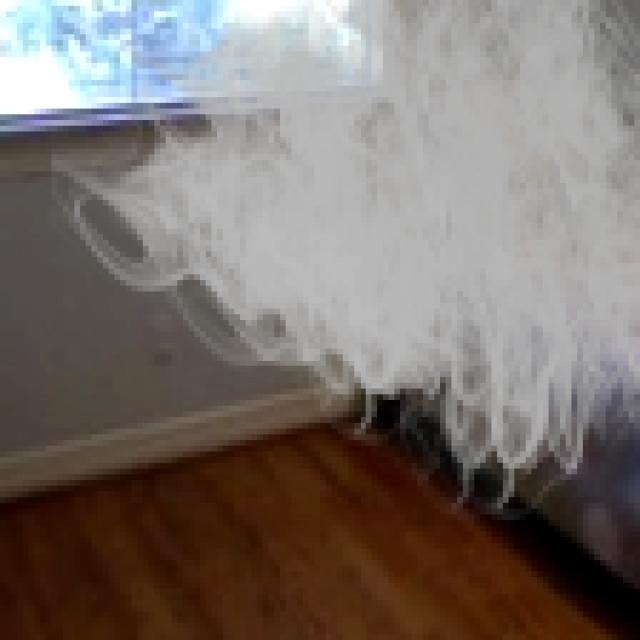smoke: (51, 0, 640, 543)
